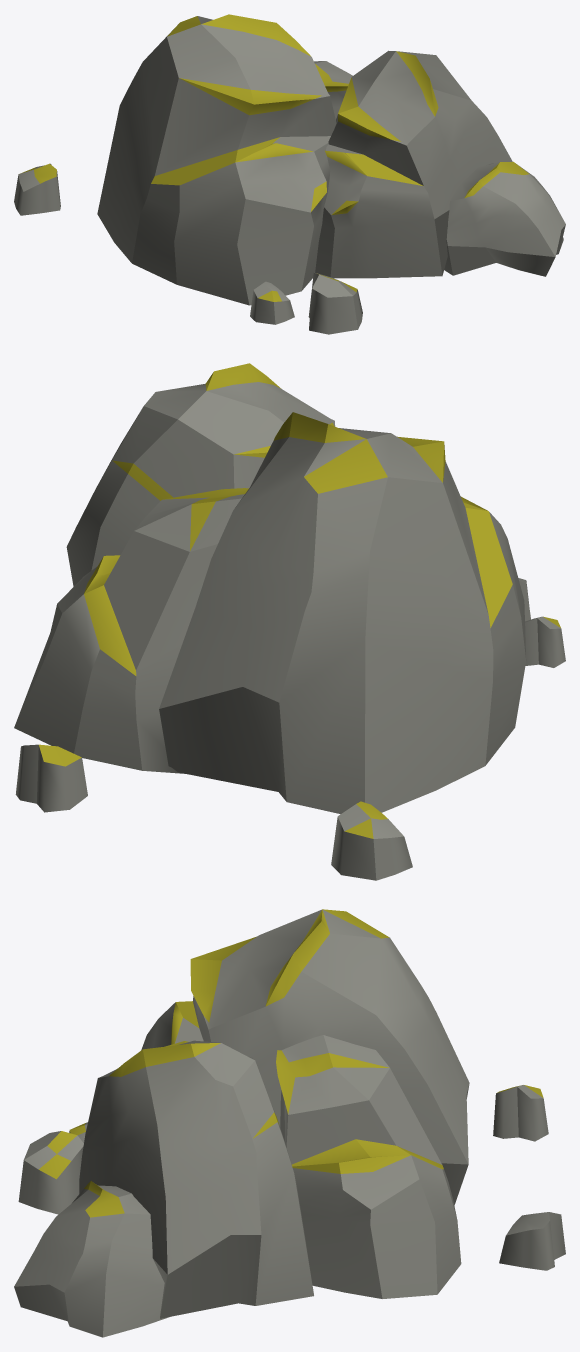
File: gold_02.fbx
3 views of the same model, one above another, from view 1: azimuth 30°, elevation 25°; view 2: azimuth 150°, elevation 25°; view 3: azimuth 270°, elevation 25° (orthographic). The views are drawn at different scales.
Parts seen in each view (by area): view 1: gold_02; view 2: gold_02; view 3: gold_02.
Boxes of the visible parts, bbox=[...] form: gold_02: bbox=[14, 14, 565, 334]; gold_02: bbox=[14, 363, 565, 880]; gold_02: bbox=[14, 909, 565, 1337].
Size of the model in its own units: 0.3513 by 0.2002 by 0.3612.
